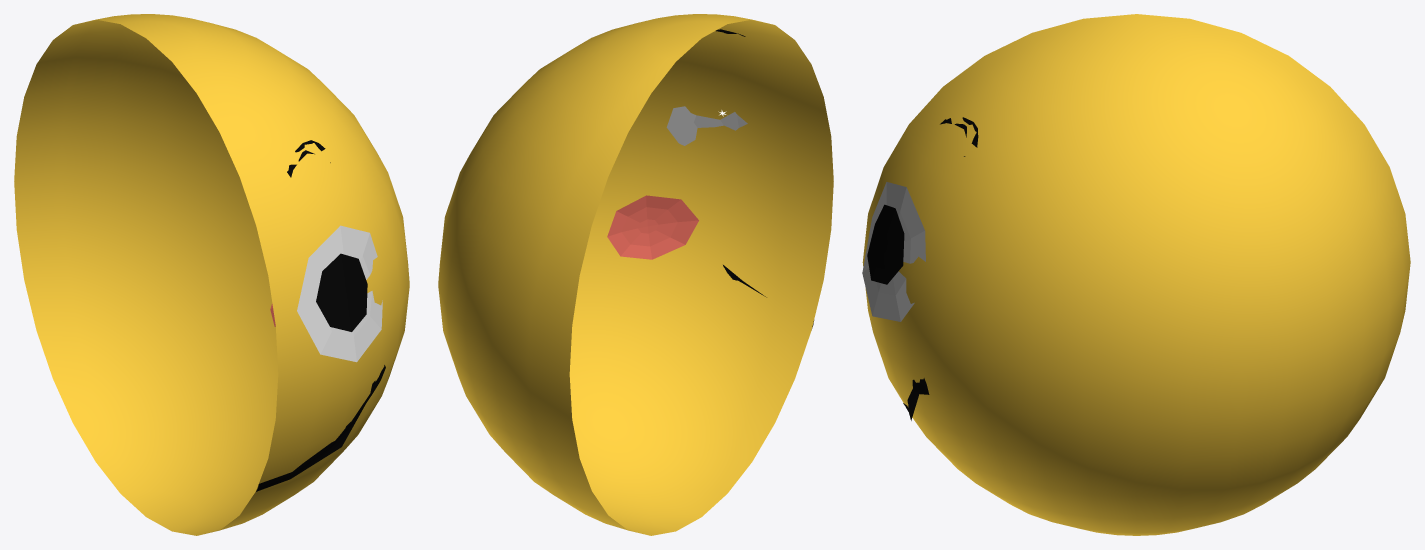
File: smile_kirakira_v150.glb
3 views of the same model, side by side, from view 1: azimuth 30°, elevation 25°; view 2: azimuth 150°, elevation 25°; view 3: azimuth 270°, elevation 25° (orthographic). The views are drawn at different scales.
Visible parts, largest first — view 1: body, eye, eyeball, mouse; view 2: body, cheek, eye; view 3: body, eye, eyeball.
Part boxes in pixels (<box>): body: <box>14,14,409,535</box>; eye: <box>297,225,382,362</box>; eyeball: <box>316,253,367,331</box>; mouse: <box>256,365,385,491</box>; body: <box>438,14,833,535</box>; cheek: <box>607,195,698,259</box>; eye: <box>666,106,747,145</box>; body: <box>862,14,1410,535</box>; eye: <box>862,182,925,321</box>; eyeball: <box>867,204,904,284</box>.
Bounding box in the file's own units: 1 × 2 × 2.
